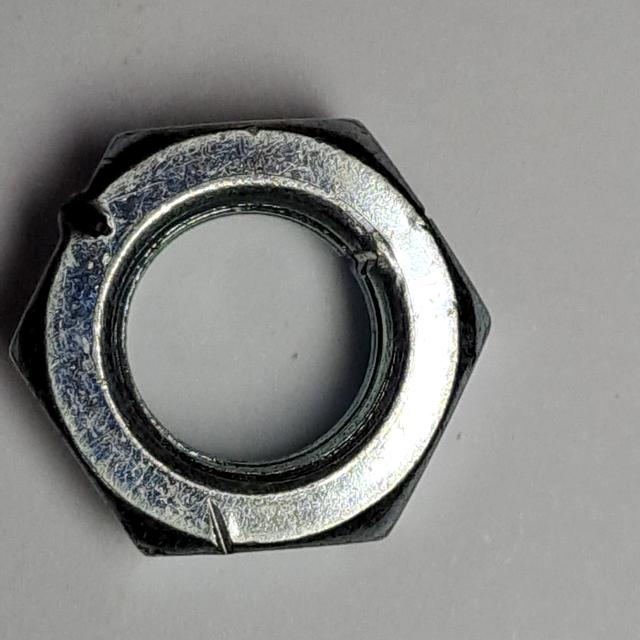Scratches: (1, 97, 506, 574)
